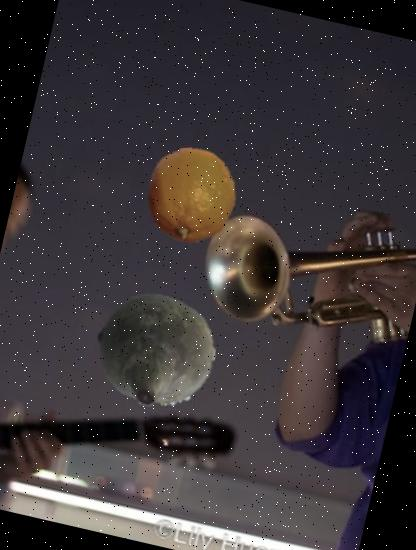Beetroot: (82, 278, 228, 424)
Lemon: (134, 138, 249, 252)
